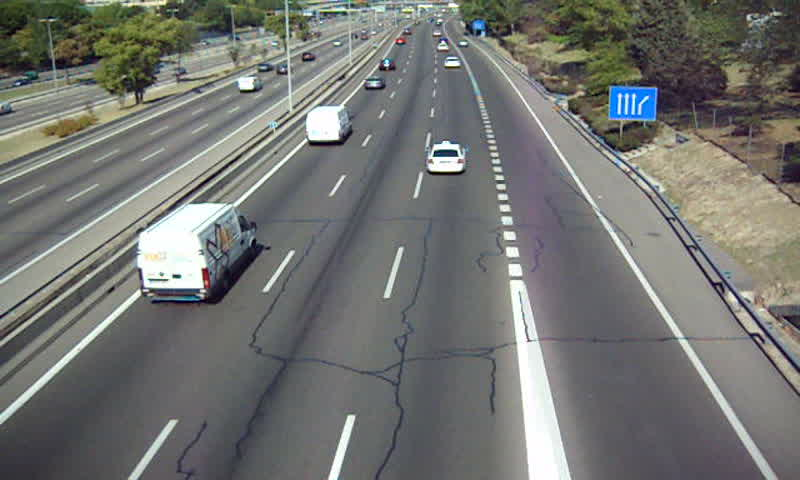car: (427, 142, 468, 174), (363, 76, 385, 92), (379, 56, 395, 73), (442, 56, 461, 70)
van: (137, 204, 257, 303), (306, 106, 353, 144)
